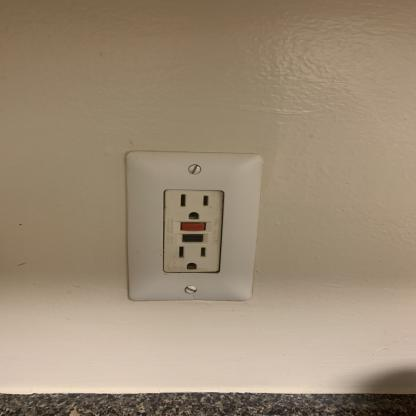OUTLET: (124, 150, 252, 302)
